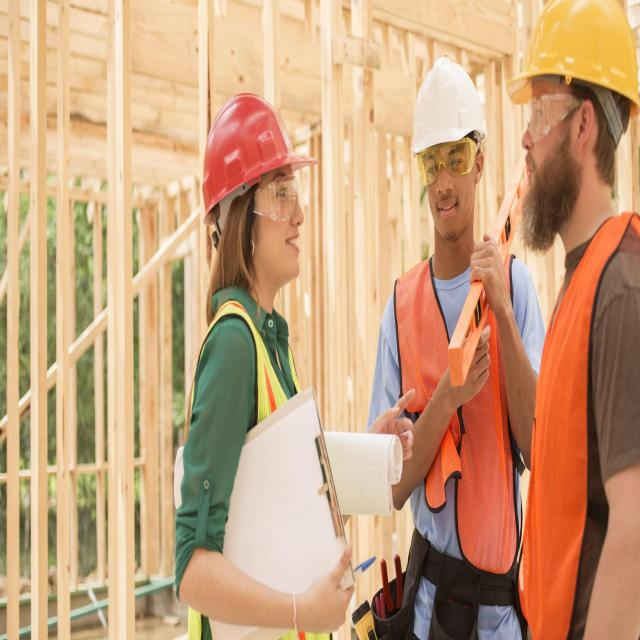Reflective-Jacket: (519, 202, 640, 640), (393, 239, 524, 562)
Safety-Helmet: (195, 83, 316, 222), (506, 0, 640, 118), (408, 51, 489, 160)
